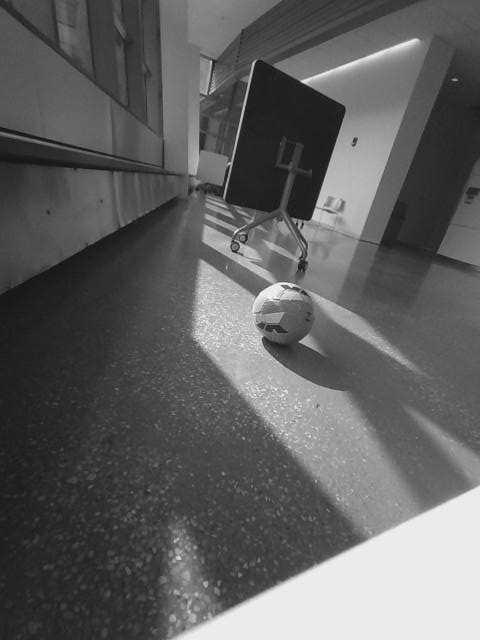ball: (250, 280, 317, 347)
